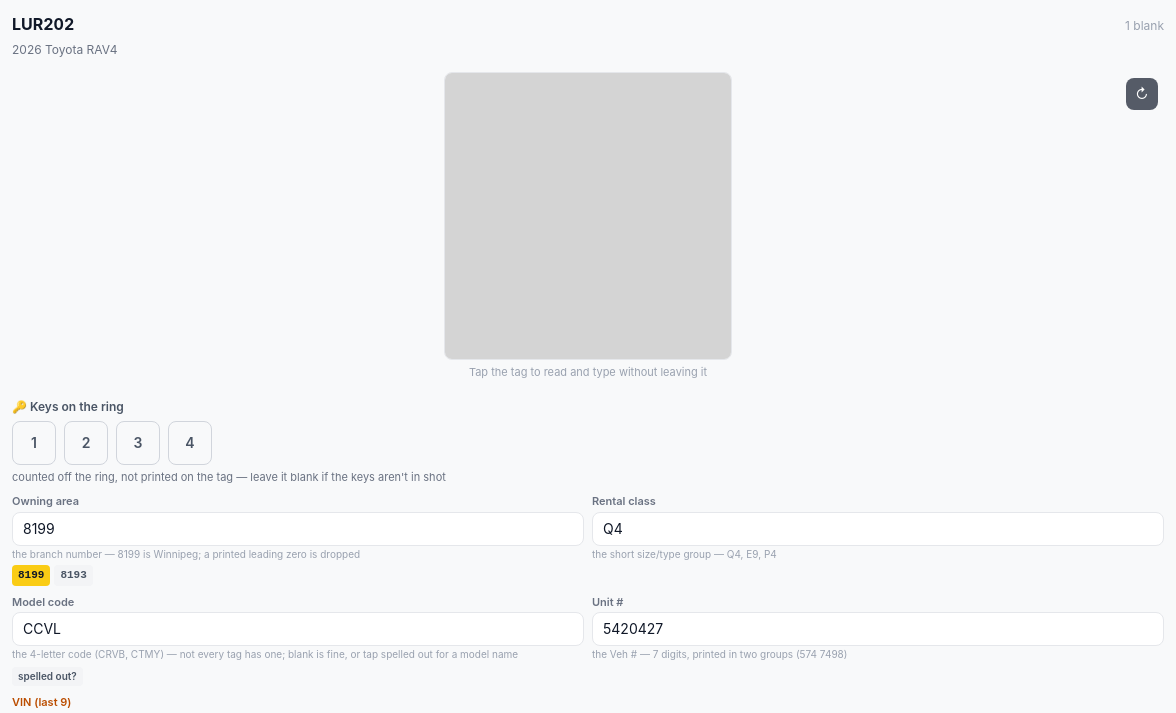
it: KeytagAuditCard — the wrong-box guard › ⭐ names a rental class typed into the model-code box
Replace the text in the field labelled "Model code" with "E9" at [298, 629], box [12,612,584,646]
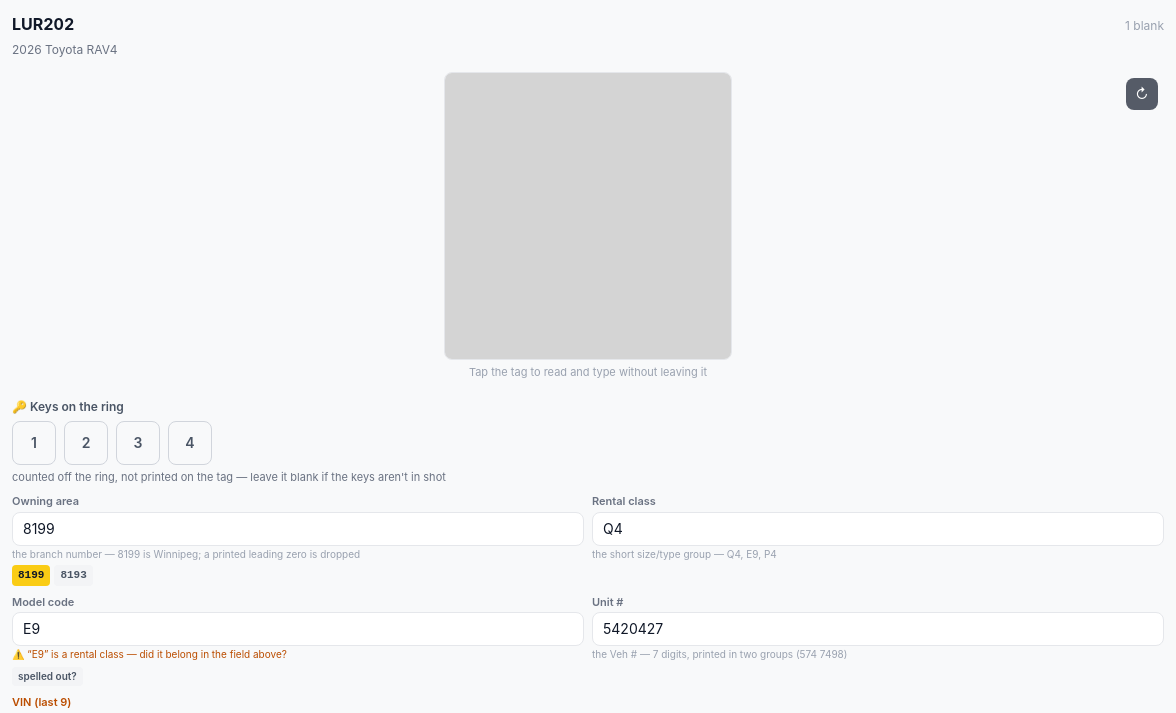
Expected: the text "is a rental class" is shown, [12,648,287,660]
